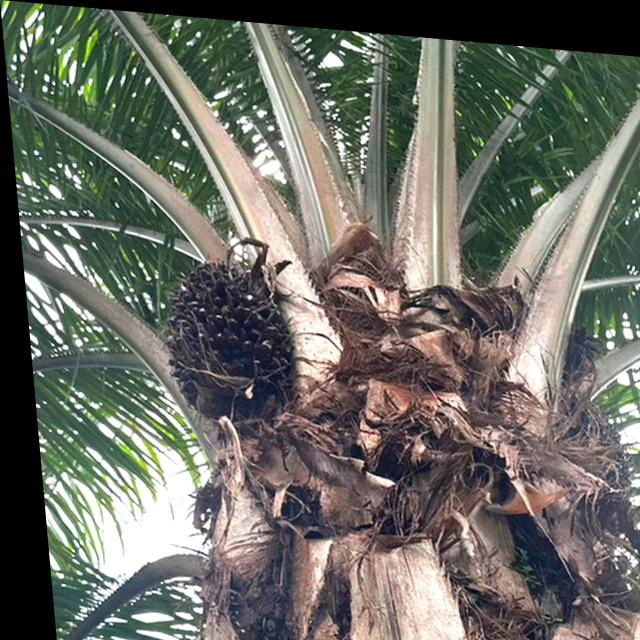almost: (147, 246, 296, 437)
